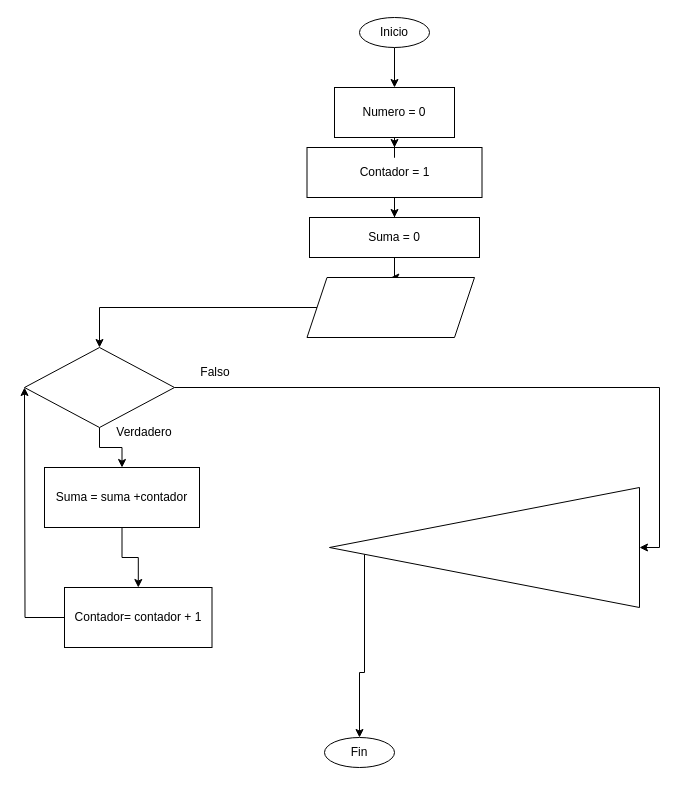
Image size: 685x785. Some labels were removed from this diagram. The box of each missing label's shape, as (x1, y1, x2, y2) in pixels:
"El resultado de la suma es"+suma: (328, 486, 640, 608)
Contador =< Numero: (24, 346, 174, 428)
Ingresar un numero: (306, 276, 474, 338)
